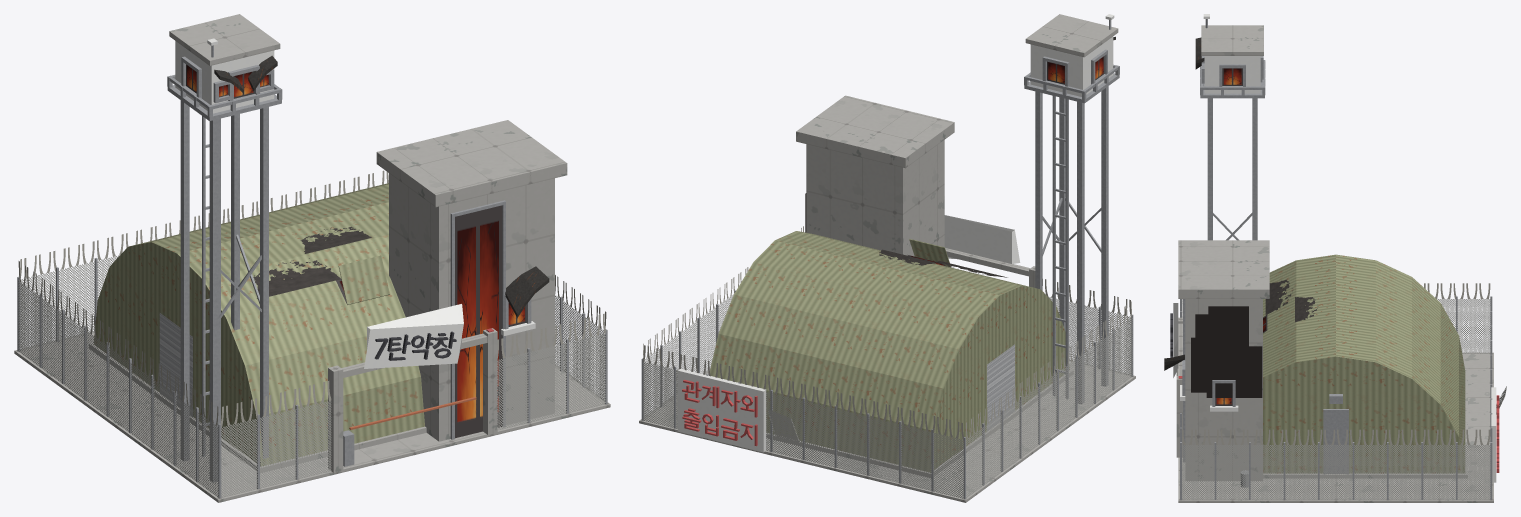
File: Story09_7탄약창_화남.fbx
3 renders of one model, left to right at view 1: azimuth 30°, elevation 25°; view 2: azimuth 150°, elevation 25°; view 3: azimuth 270°, elevation 25°, orthographic. The views are drawn at different scales.
Parts seen in each view (by area): view 1: Story09_7탄약창_화남; view 2: Story09_7탄약창_화남; view 3: Story09_7탄약창_화남.
Part boxes in pixels (box(x1,y1,x2,y2)): Story09_7탄약창_화남: box(14, 14, 610, 502); Story09_7탄약창_화남: box(639, 14, 1135, 502); Story09_7탄약창_화남: box(1164, 14, 1506, 502).
Size of the model in its own units: 4060 by 4410 by 3975.
Materials: 14 (14 with a texture image).
